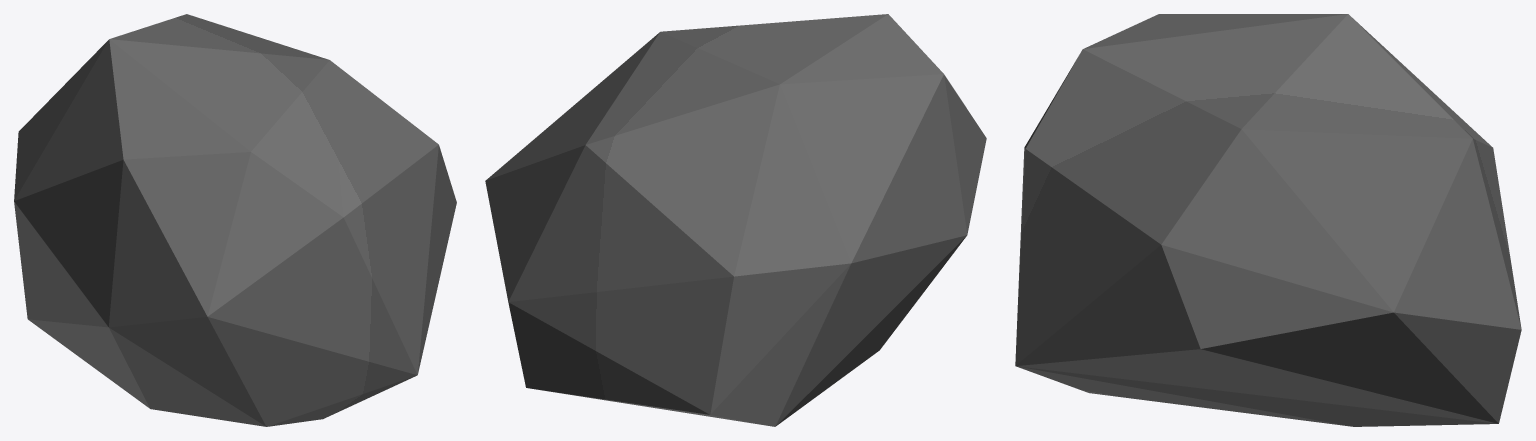
The model's file is 3D_Rock2.fbx.
3 views of the same model, side by side, from view 1: azimuth 30°, elevation 25°; view 2: azimuth 150°, elevation 25°; view 3: azimuth 270°, elevation 25° (orthographic). The views are drawn at different scales.
Parts seen in each view (by area): view 1: Rock2; view 2: Rock2; view 3: Rock2.
Part boxes in pixels (x1,y1,x2,y2): Rock2: (14,14,456,426); Rock2: (485,14,986,426); Rock2: (1015,14,1521,426).
Bounding box in the file's own units: 24.67 × 20.33 × 27.41.
